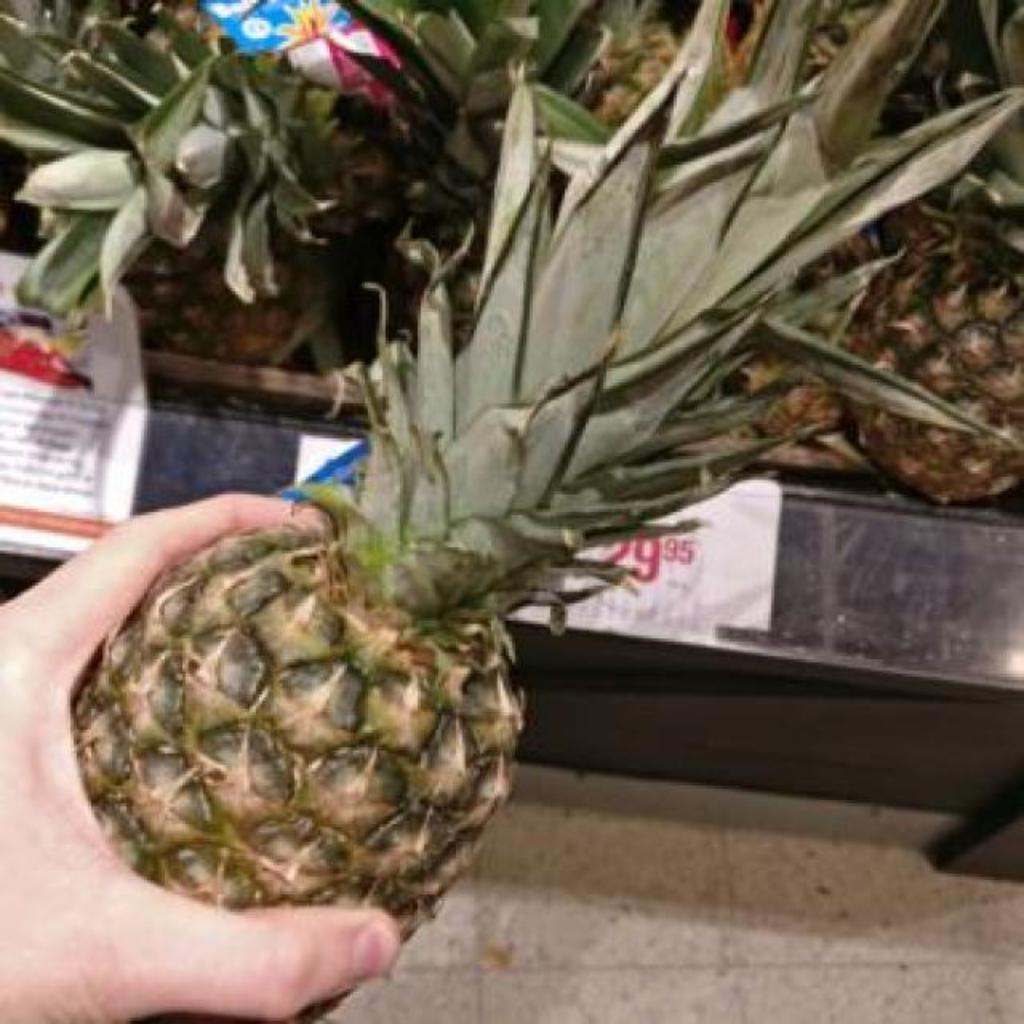pineapple: (82, 0, 1024, 917)
